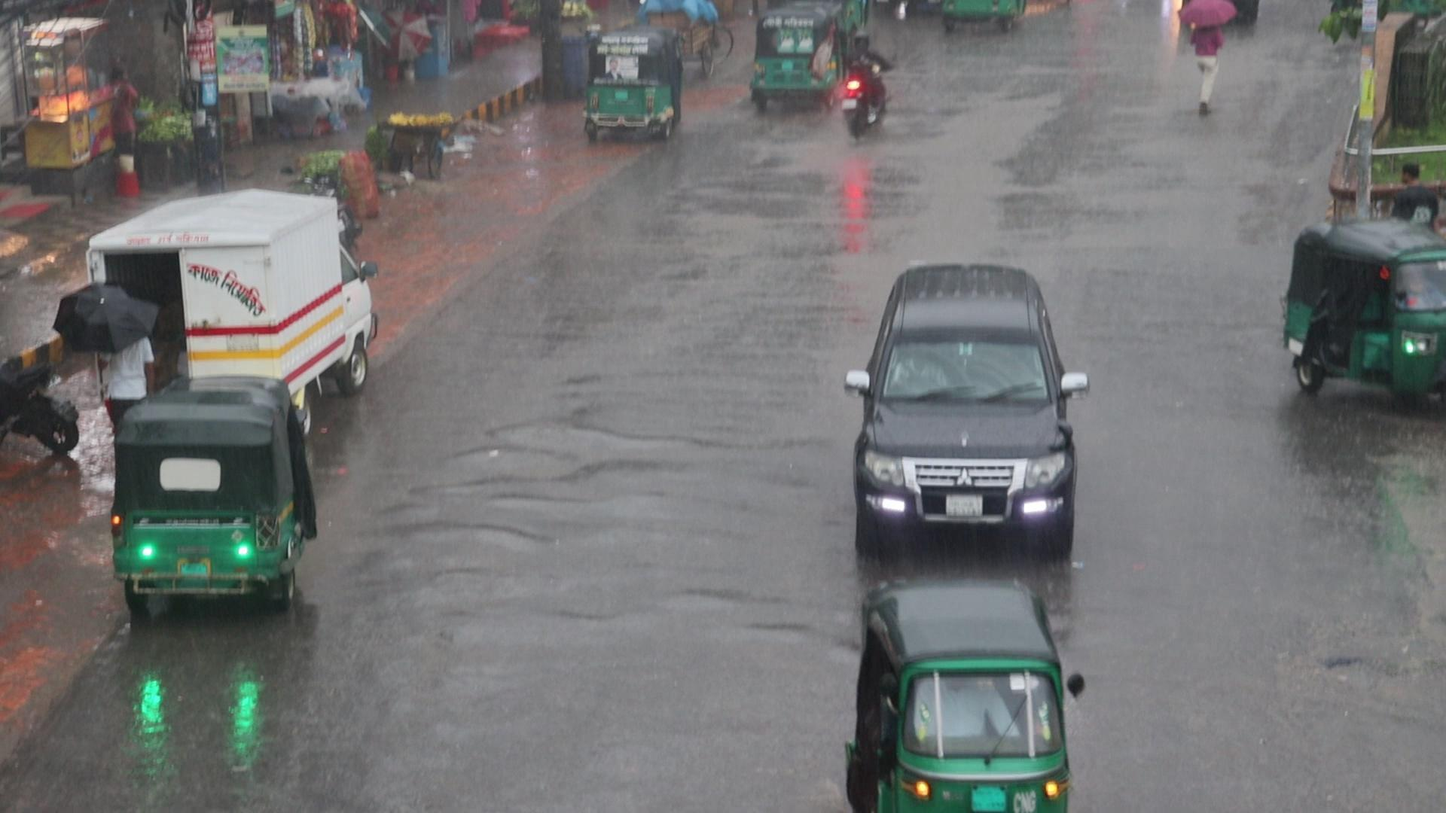Bike: (840, 32, 888, 135)
Car: (839, 263, 1090, 555)
